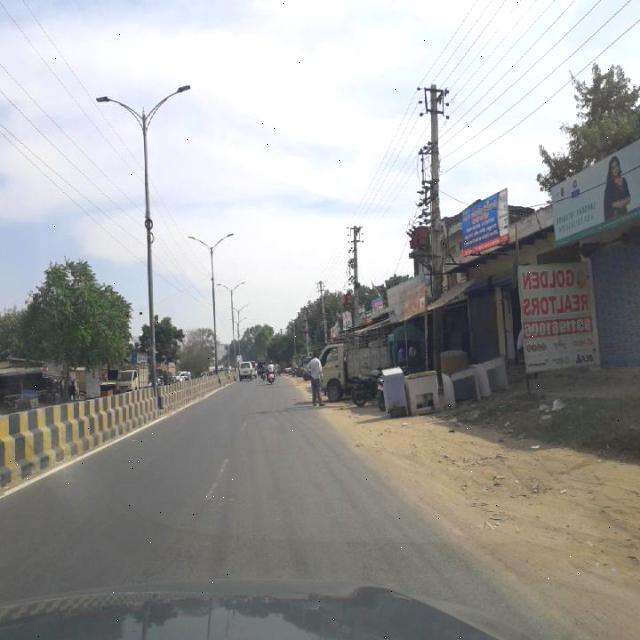D44: (202, 462, 231, 508)
